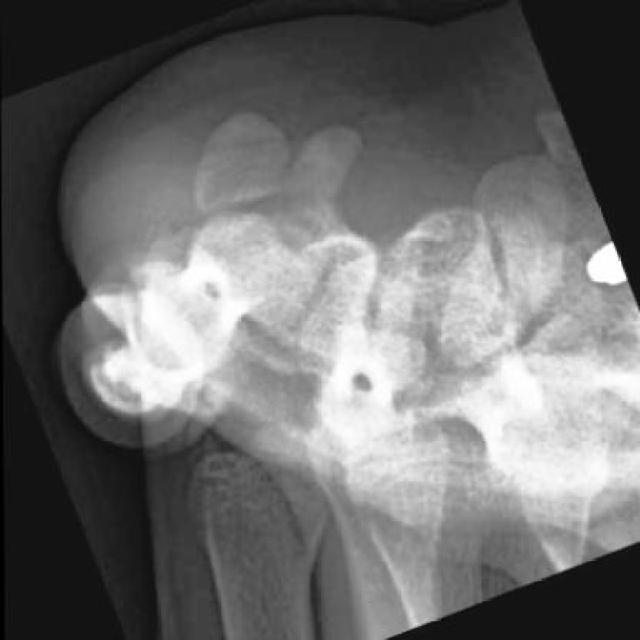Fracture: (266, 159, 353, 242)
